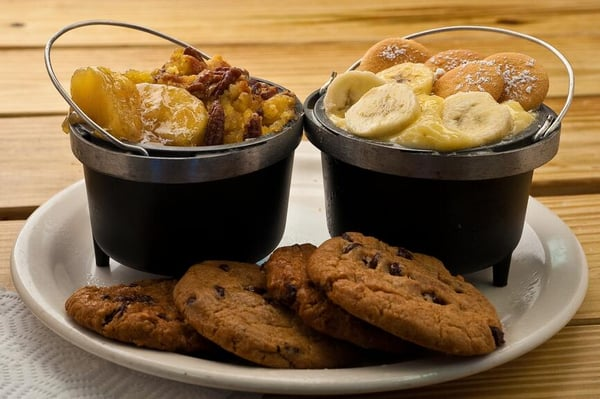pasta: (342, 81, 419, 139)
soup: (290, 231, 506, 358)
sushi: (303, 28, 570, 283), (55, 37, 305, 279)
